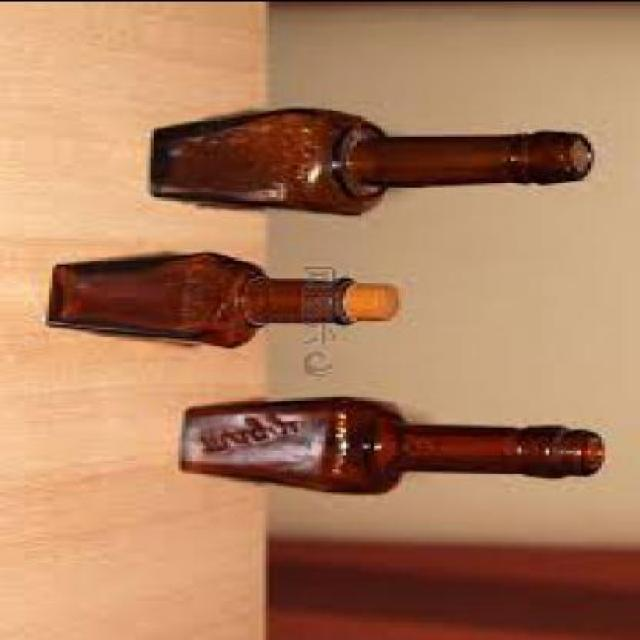glass: (151, 108, 598, 217), (178, 396, 610, 496), (49, 254, 357, 346)
